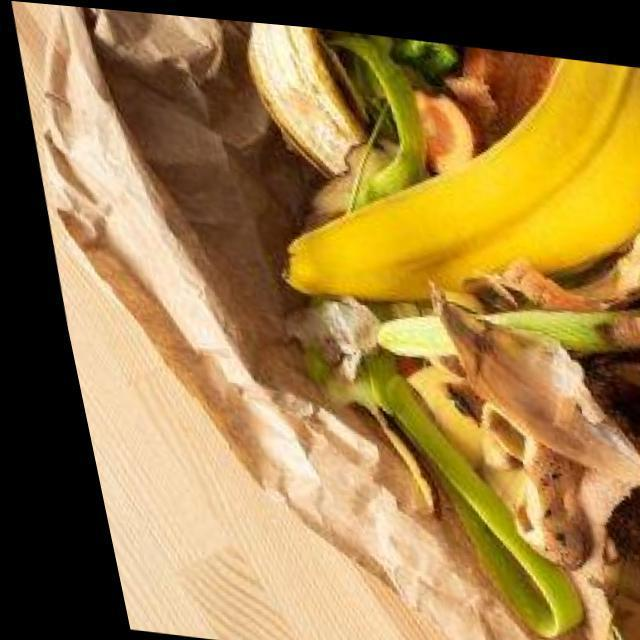Garbage: (247, 18, 640, 640)
